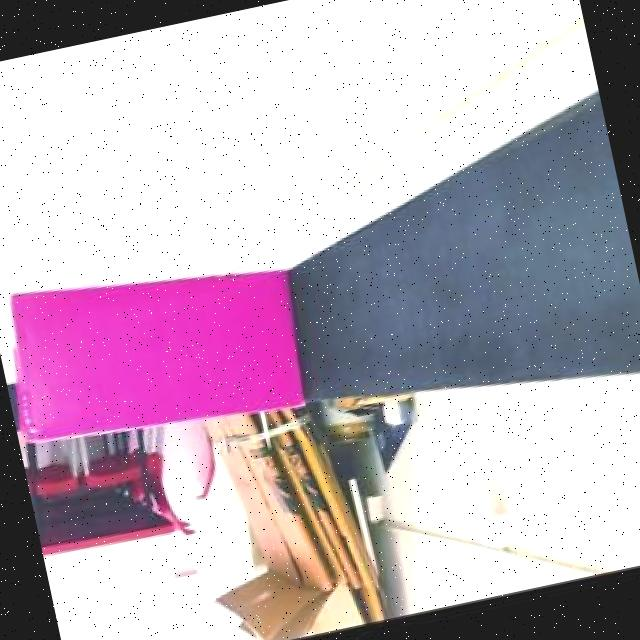xparking: (0, 235, 318, 465)
